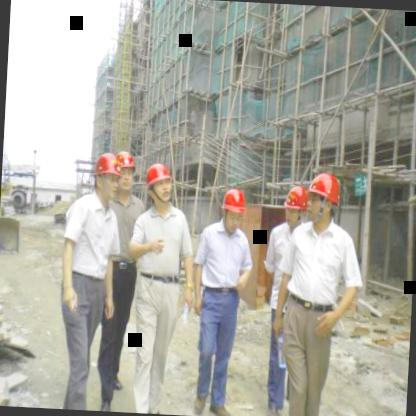helmet: (304, 170, 340, 228), (141, 160, 176, 208), (90, 148, 122, 200), (218, 186, 246, 232), (281, 184, 308, 231), (114, 150, 137, 192)
